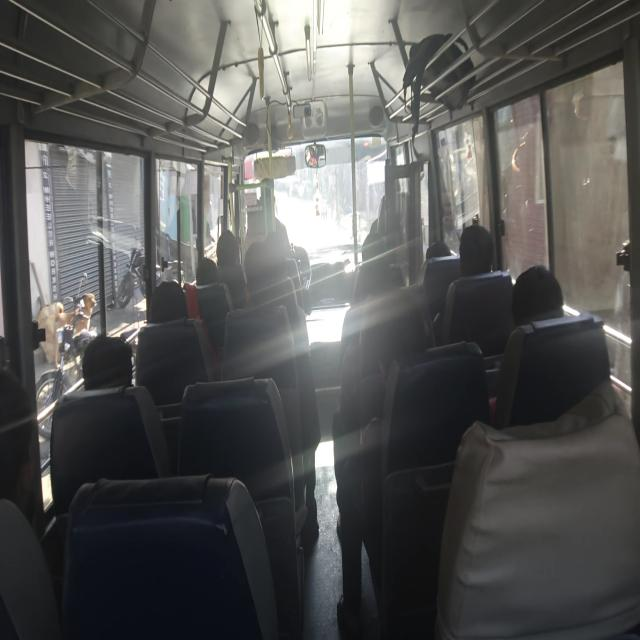person: (0, 397, 47, 568), (76, 327, 142, 419), (513, 257, 582, 326), (377, 290, 435, 362), (238, 231, 286, 288), (458, 216, 504, 270), (264, 225, 300, 279), (146, 275, 188, 309), (194, 255, 222, 305), (425, 236, 456, 269), (376, 268, 415, 293), (365, 230, 391, 264), (218, 224, 242, 252)
